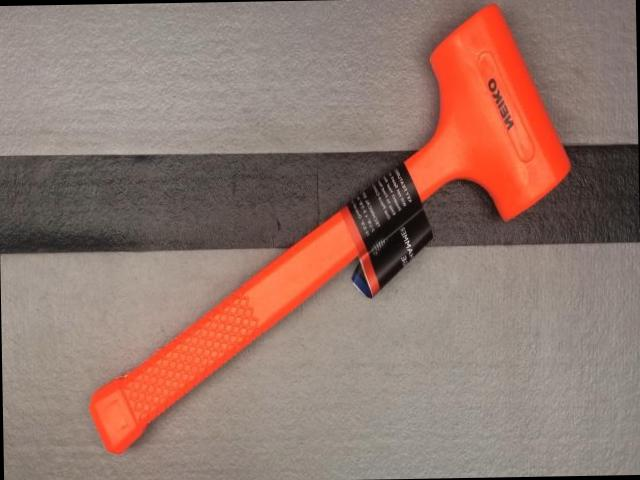hammer: (80, 2, 581, 451)
